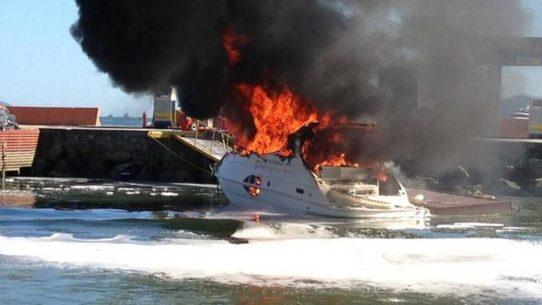fire: (244, 92, 292, 152)
smoke: (368, 0, 484, 129), (93, 0, 218, 62), (252, 1, 330, 65)
